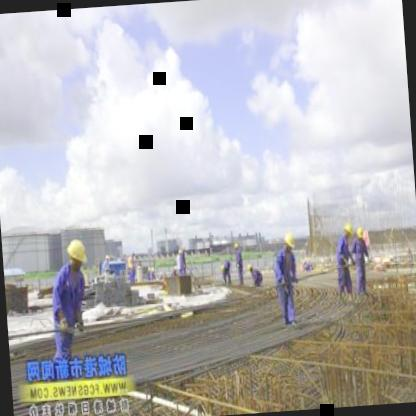helmet: (64, 236, 89, 272), (282, 231, 297, 254), (341, 219, 355, 242), (355, 224, 366, 245)
